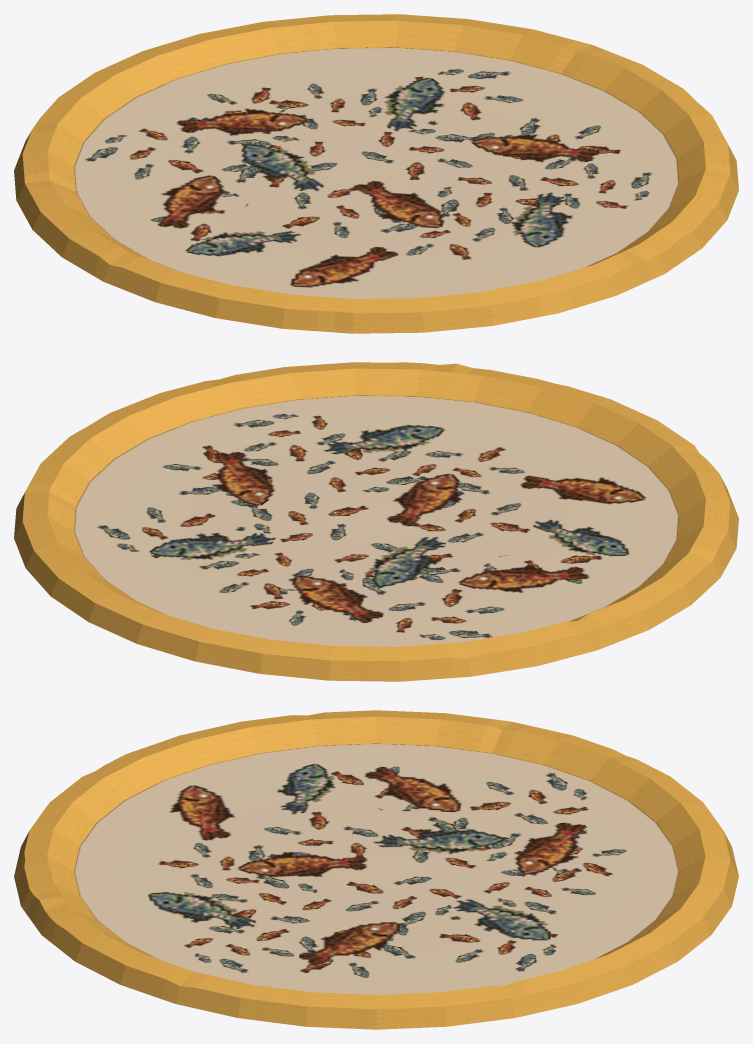
The model's file is WorldItem_PizzaSeafood.fbx.
The picture shows the model from 3 angles, top to bottom: view 1: azimuth 30°, elevation 25°; view 2: azimuth 150°, elevation 25°; view 3: azimuth 270°, elevation 25°; orthographic projection.
Parts seen in each view (by area): view 1: Pizza; view 2: Pizza; view 3: Pizza.
Part boxes in pixels (x1,y1,x2,y2): Pizza: (14, 14, 738, 333); Pizza: (14, 362, 738, 681); Pizza: (14, 710, 738, 1029).
Bounding box in the file's own units: 45.79 × 2.22 × 45.79.
